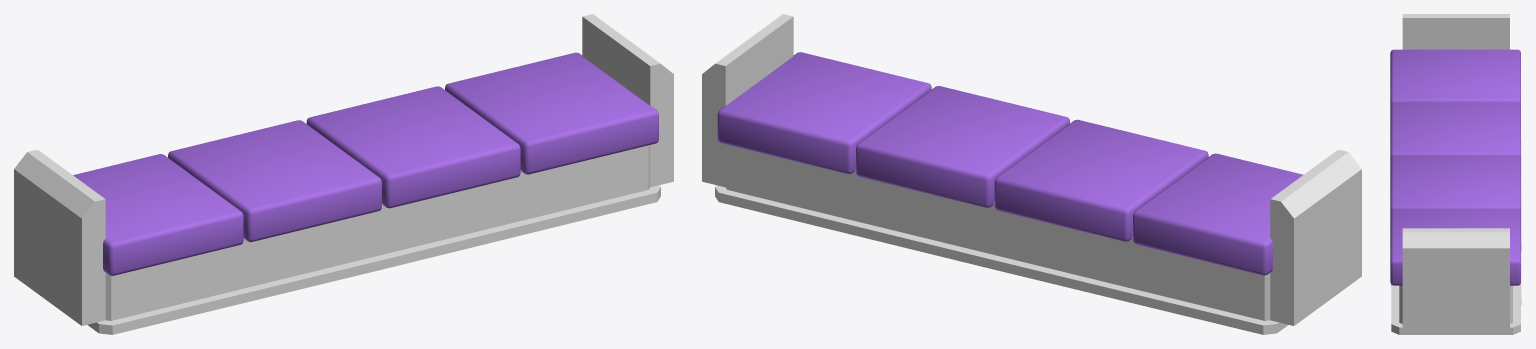
The model's file is ScifiSofa.fbx.
3 renders of one model, left to right at view 1: azimuth 30°, elevation 25°; view 2: azimuth 150°, elevation 25°; view 3: azimuth 270°, elevation 25°, orthographic. The views are drawn at different scales.
Parts seen in each view (by area): view 1: Sofa; view 2: Sofa; view 3: Sofa.
Boxes of the visible parts, left/top/right/bottom form: Sofa: left=14, top=14, right=673, bottom=334; Sofa: left=702, top=14, right=1361, bottom=334; Sofa: left=1390, top=14, right=1521, bottom=334.
Bounding box in the file's own units: 536 × 119 × 130.
